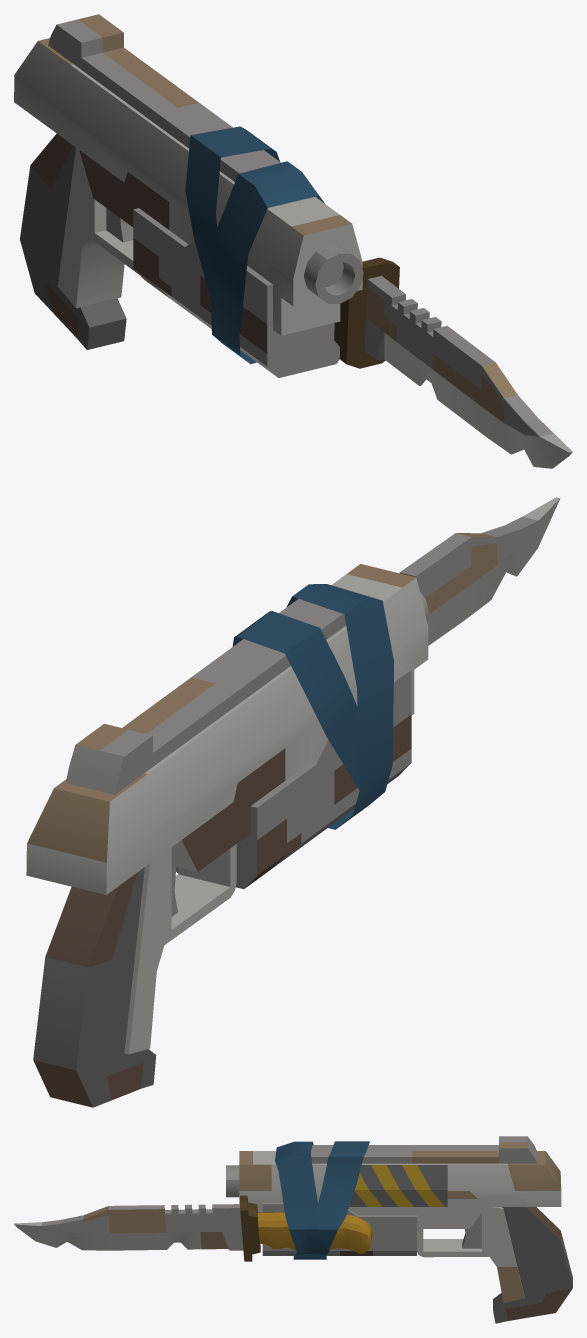
Rendered from quaternius-zombie-apocalypse-kit-march-pistol.glb.
3 views of the same model, one above another, from view 1: azimuth 30°, elevation 25°; view 2: azimuth 150°, elevation 25°; view 3: azimuth 270°, elevation 25° (orthographic). The views are drawn at different scales.
Visible parts, largest first — view 1: Pistol; view 2: Pistol; view 3: Pistol.
Part boxes in pixels (<box>): Pistol: <box>14,14,572,468</box>; Pistol: <box>26,497,560,1107</box>; Pistol: <box>14,1136,572,1323</box>.
Size of the model in its own units: 0.1412 by 0.3397 by 0.9764.
Materials: 1 (1 with a texture image).
